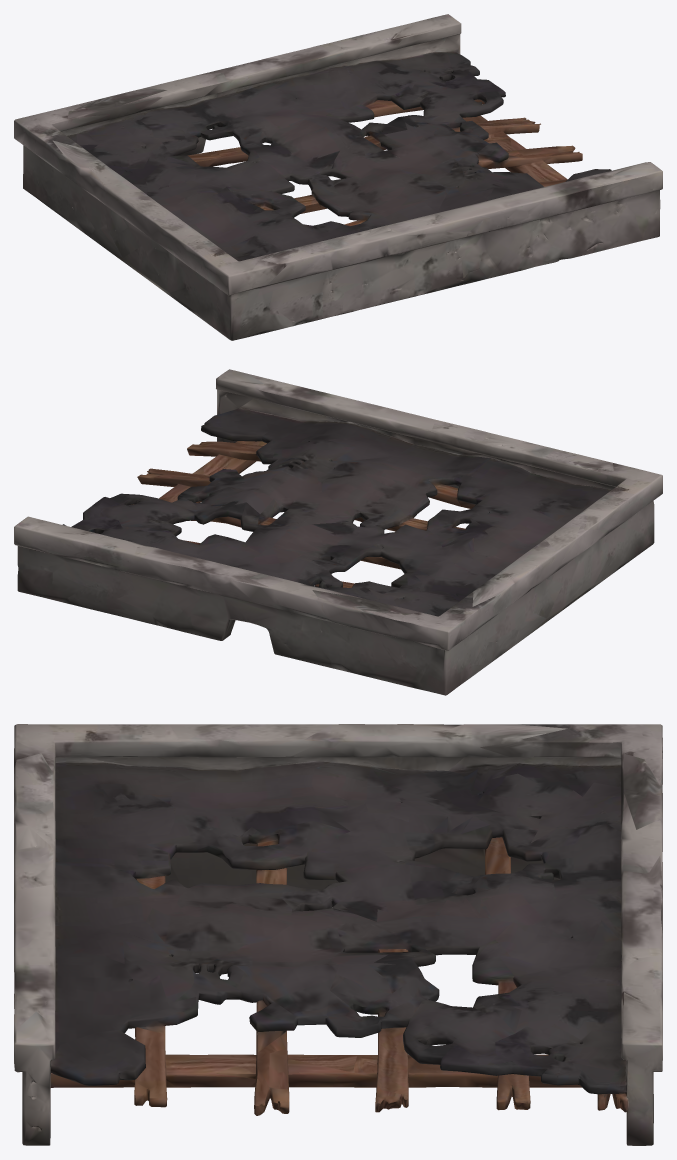
File: roof_flat_ruined_idle.glb
The picture shows the model from 3 angles, top to bottom: view 1: azimuth 30°, elevation 25°; view 2: azimuth 150°, elevation 25°; view 3: azimuth 270°, elevation 25°; orthographic projection. The views are drawn at different scales.
Visible parts, largest first — view 1: tripo_node_b242c7d4-f775-40b6-9b6a-92e1b0299428; view 2: tripo_node_b242c7d4-f775-40b6-9b6a-92e1b0299428; view 3: tripo_node_b242c7d4-f775-40b6-9b6a-92e1b0299428.
Boxes of the visible parts, x1,y1,x2,y2 form: tripo_node_b242c7d4-f775-40b6-9b6a-92e1b0299428: [14, 14, 662, 340]; tripo_node_b242c7d4-f775-40b6-9b6a-92e1b0299428: [14, 369, 662, 695]; tripo_node_b242c7d4-f775-40b6-9b6a-92e1b0299428: [14, 724, 662, 1145].
Bounding box in the file's own units: 3 × 0.4494 × 2.56.
1 material, 1 textured.
